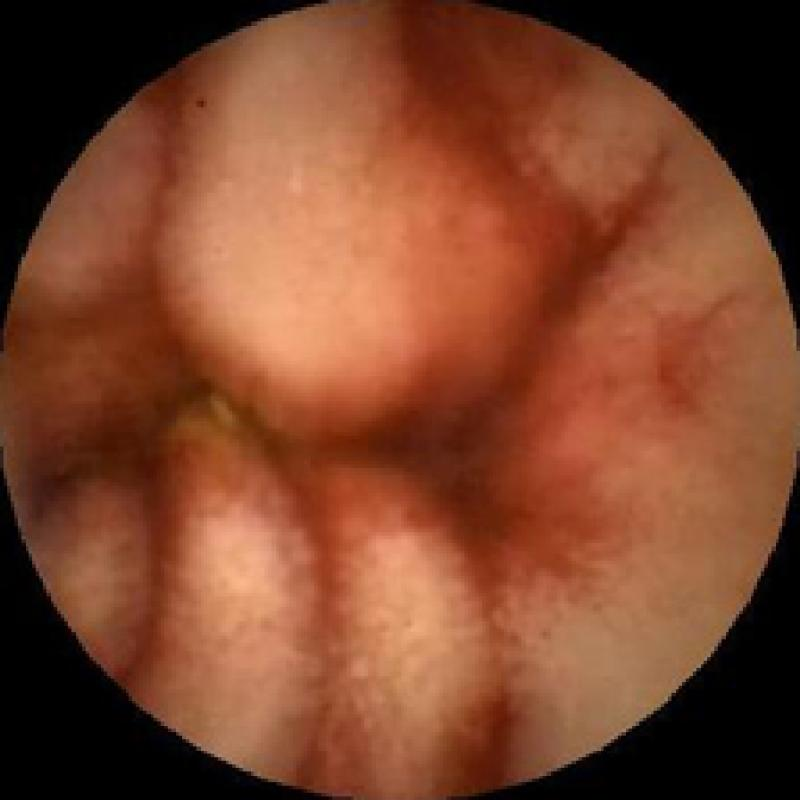bleeding: (129, 29, 595, 739)
